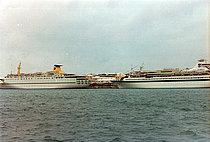Ship: (4, 63, 92, 91), (115, 70, 210, 91)
